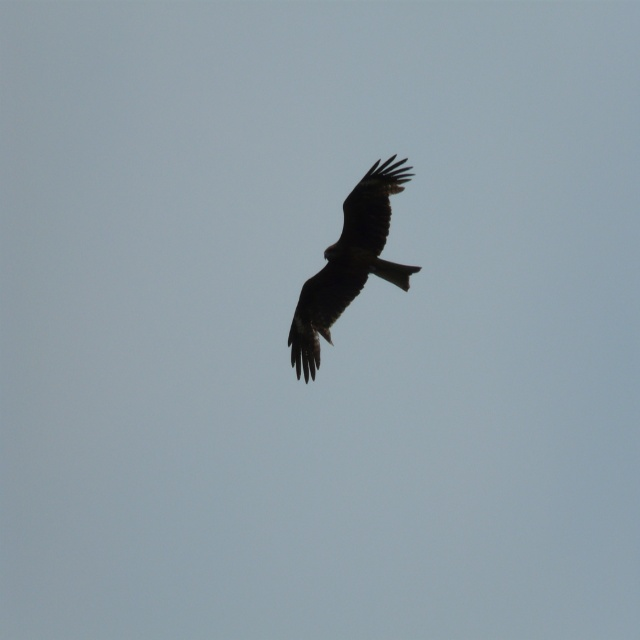Eagle: (287, 149, 426, 388)
